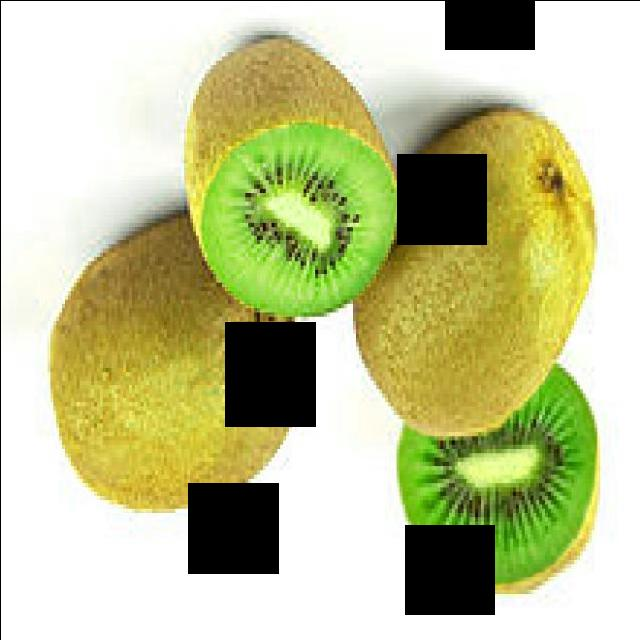kiwi: (42, 214, 310, 513), (356, 108, 595, 433)
